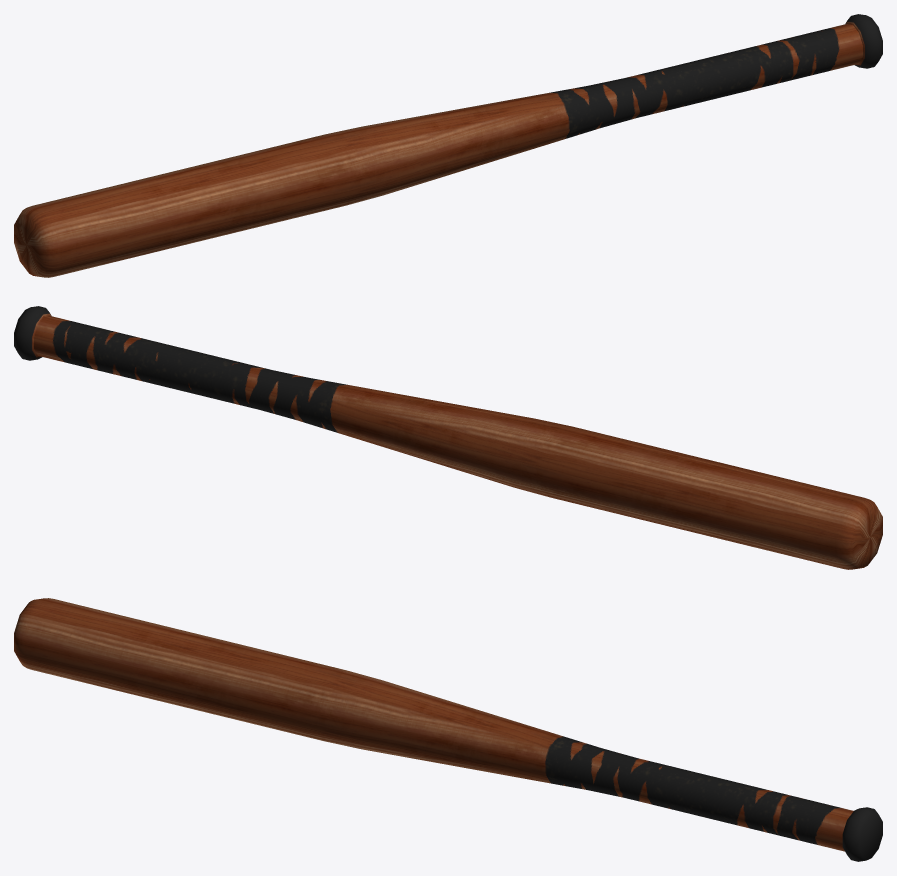
The model's file is bat_01.fbx.
The picture shows the model from 3 angles, top to bottom: view 1: azimuth 30°, elevation 25°; view 2: azimuth 150°, elevation 25°; view 3: azimuth 330°, elevation 25°; orthographic projection.
Visible parts, largest first — view 1: Baseball_Bat006; view 2: Baseball_Bat006; view 3: Baseball_Bat006.
Boxes of the visible parts, bbox=[...] form: Baseball_Bat006: bbox=[14, 14, 882, 277]; Baseball_Bat006: bbox=[14, 306, 882, 569]; Baseball_Bat006: bbox=[14, 598, 882, 861].
Bounding box in the file's own units: 79.87 × 6.14 × 5.84.
1 material, 1 textured.
